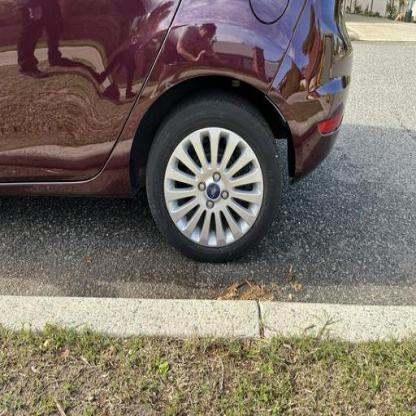Tire: (144, 91, 283, 264)
